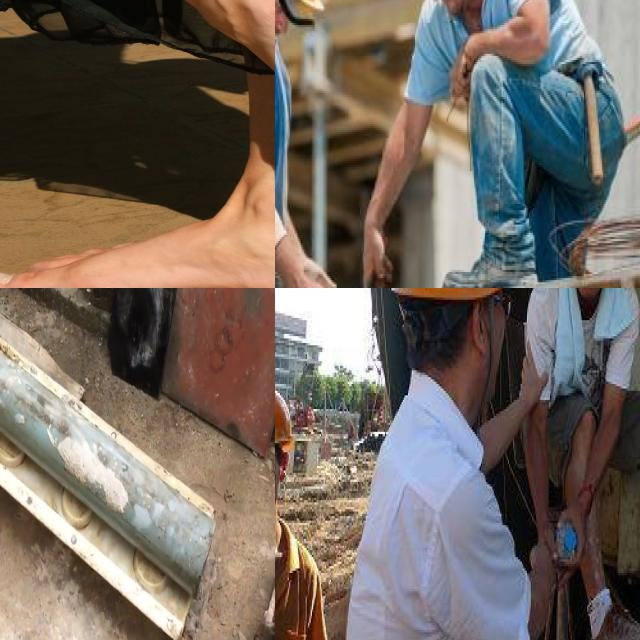Barefoots: (0, 216, 275, 288)
No_Ear-Protection: (466, 301, 490, 363)
hand_noglove: (561, 485, 595, 566), (518, 345, 548, 409)
